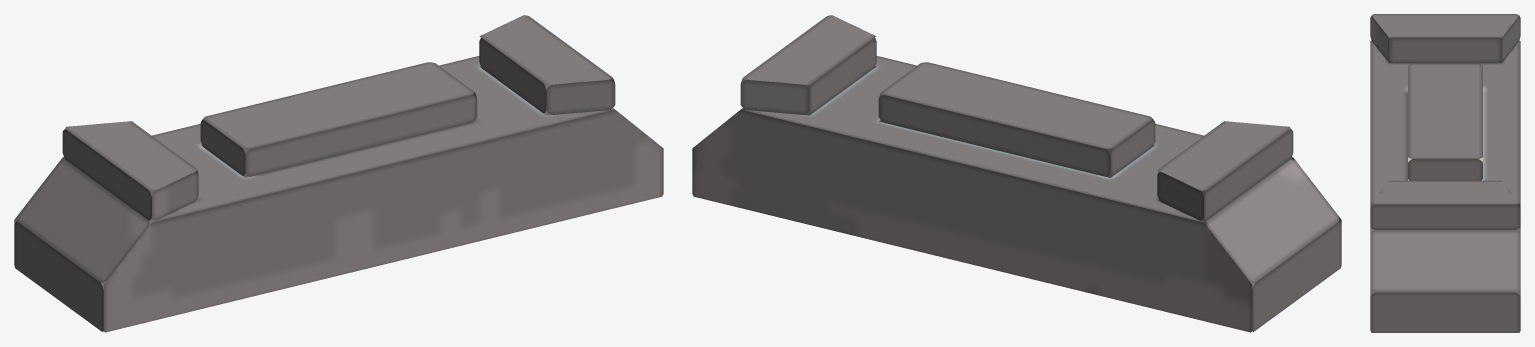
File: lamp.obj
The picture shows the model from 3 angles, left to right: view 1: azimuth 30°, elevation 25°; view 2: azimuth 150°, elevation 25°; view 3: azimuth 270°, elevation 25°; orthographic projection. The views are drawn at different scales.
Visible parts, largest first — view 1: cuboid; view 2: cuboid; view 3: cuboid.
Part boxes in pixels (x1,y1,x2,y2): cuboid: [14, 15, 663, 332]; cuboid: [692, 15, 1341, 332]; cuboid: [1370, 14, 1520, 332].
Size of the model in its own units: 3.62 by 0.7969 by 1.
1 material, 1 textured.
